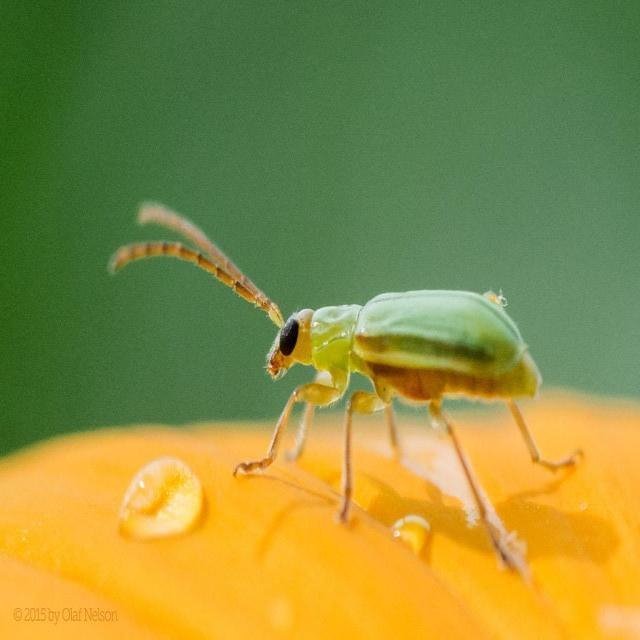gusano_gris: (109, 197, 613, 514)
